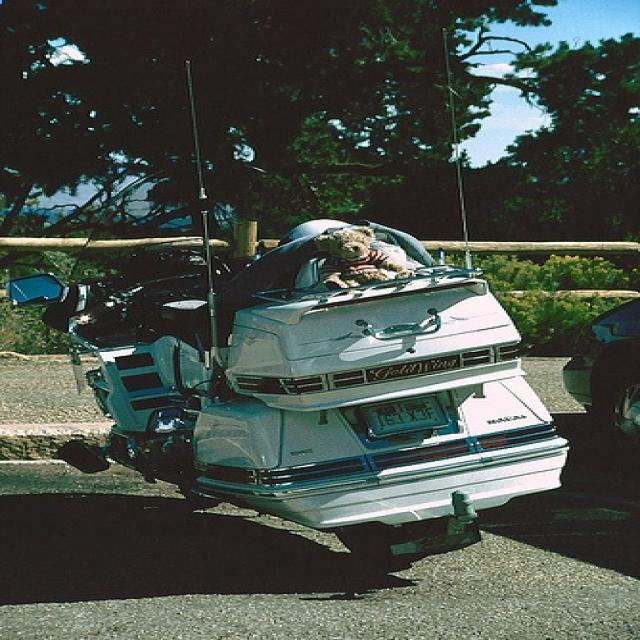car: (562, 296, 638, 448)
motorbike: (4, 222, 571, 572)
